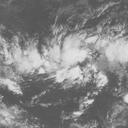cyclone: (13, 33, 111, 82)
